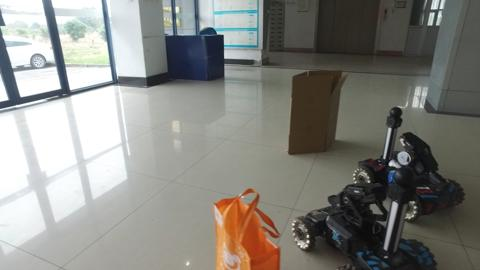bag: (213, 182, 285, 269)
box: (288, 67, 340, 160)
chariot: (287, 160, 444, 269), (354, 103, 469, 217)
